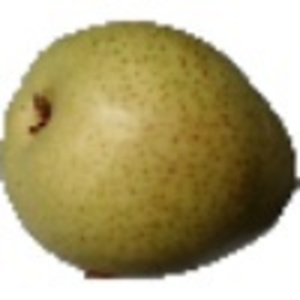pera: (1, 17, 300, 284)
